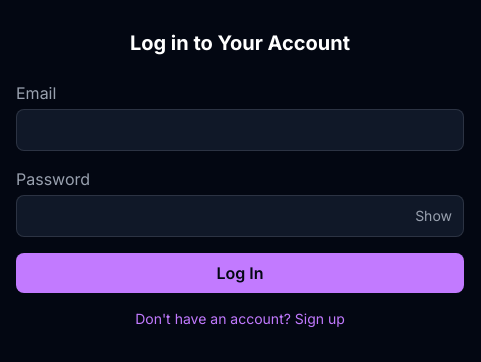
LoginPage › shows welcome message with codename on successful login
The image size is (481, 362).
Step 1. Type "test@example.com" into the field labelled "Email" → (240,130), box [16,109,464,151]
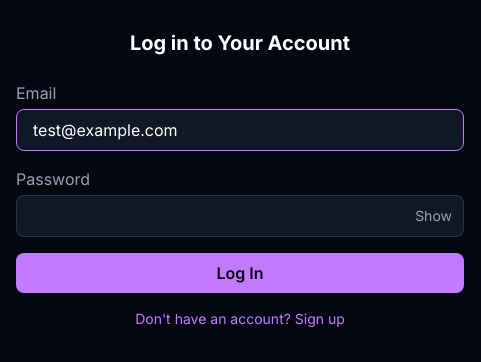
Step 2. Type "secret123" into the password field labelled "Password" → (240,216), box [16,195,464,237]
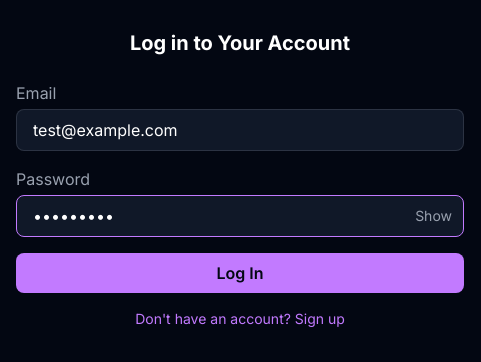
Step 3. Click the button "Log In" → (240,273), box [16,253,464,293]
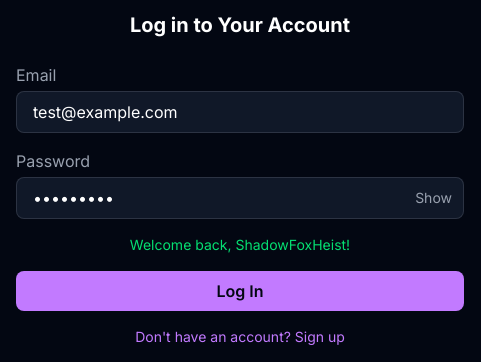
Check: the text "Welcome back, ShadowFoxHeist!" is shown, box [130,236,350,253]
